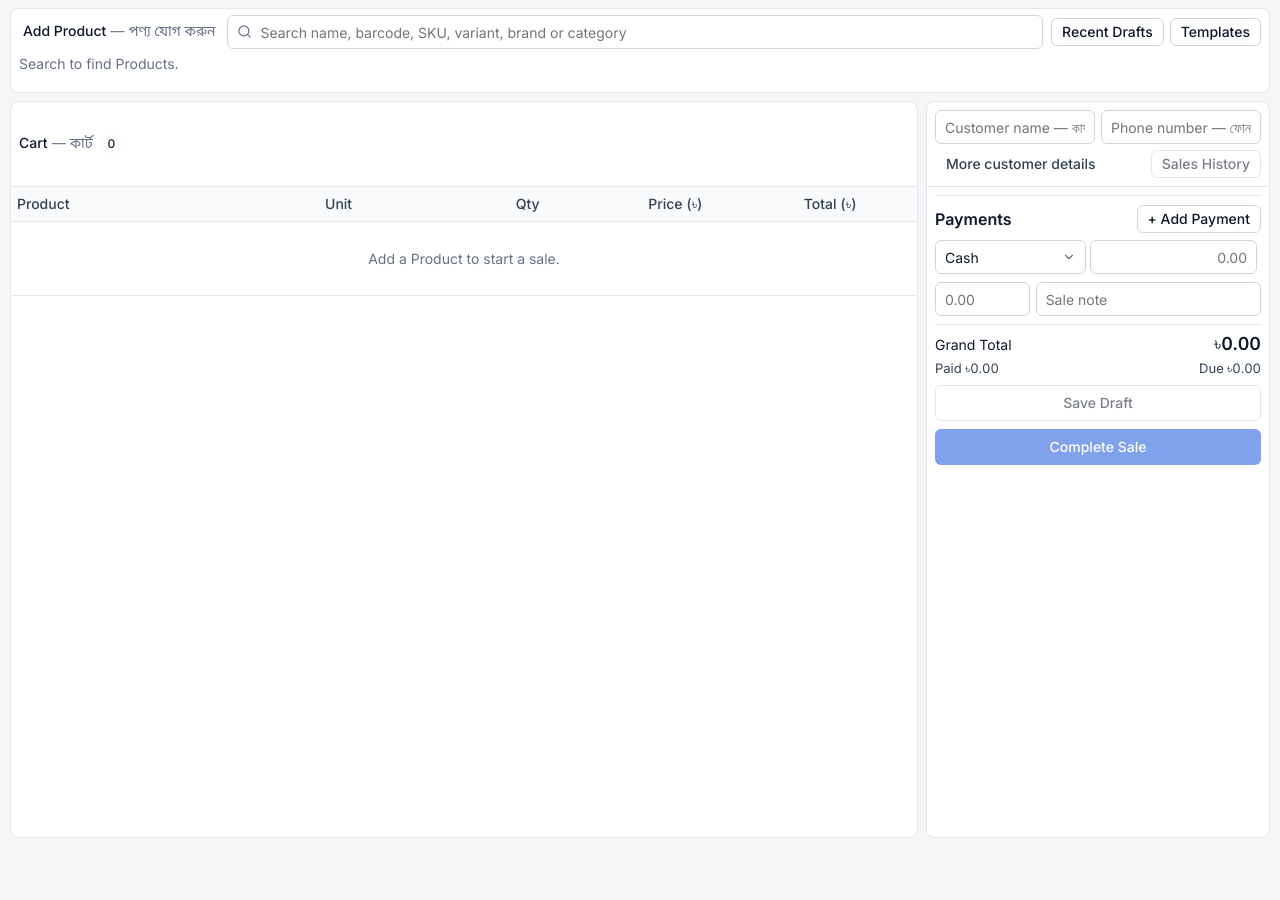
Test case: TemplatePicker › clears checkout identity and payments when loading a Template into POS
Type "Old customer" into the field labelled "Customer name" at (1015, 127), box [935,110,1095,144]
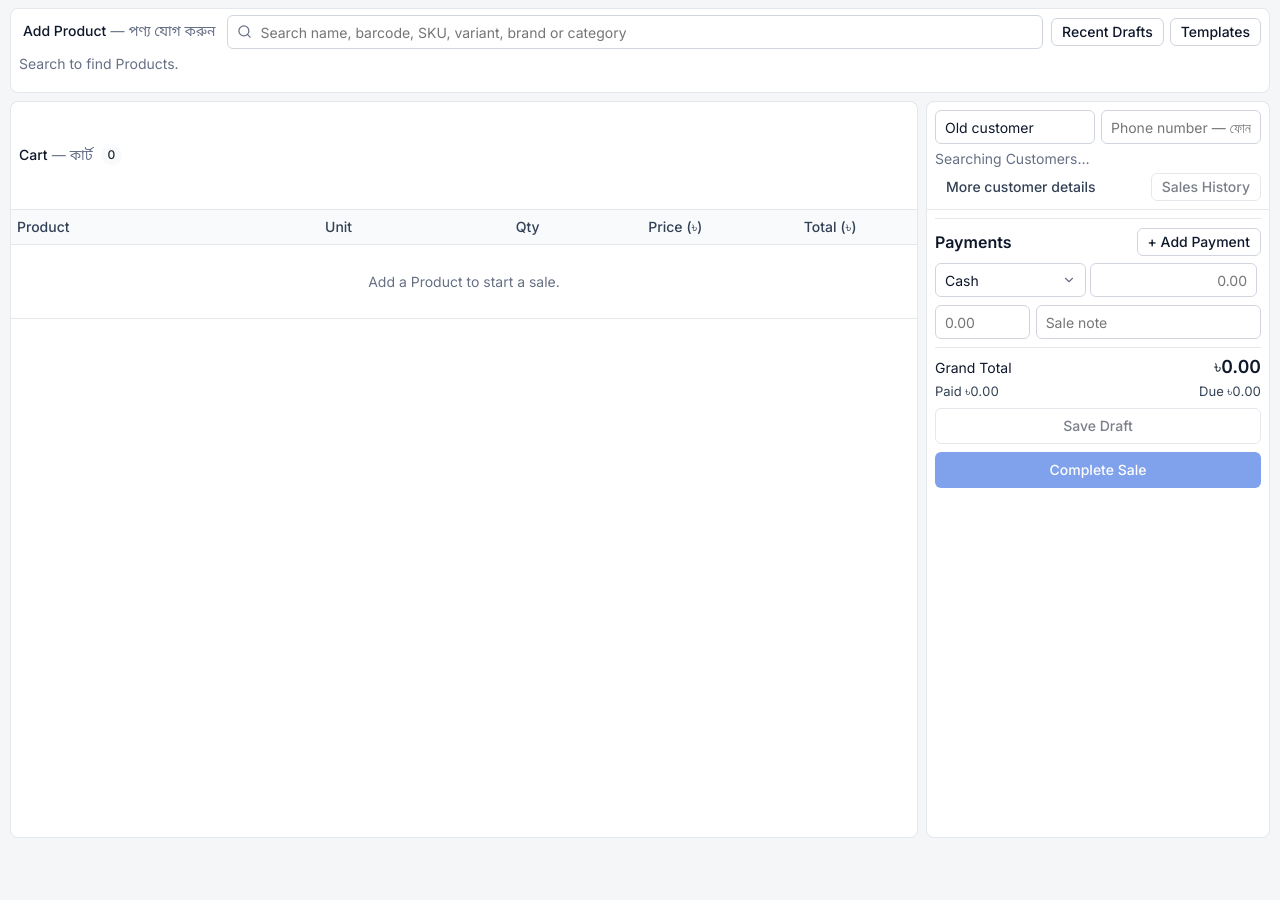
Type "12.00" into the field named "Payment amount 1" at (1173, 280), box [1090,263,1257,297]
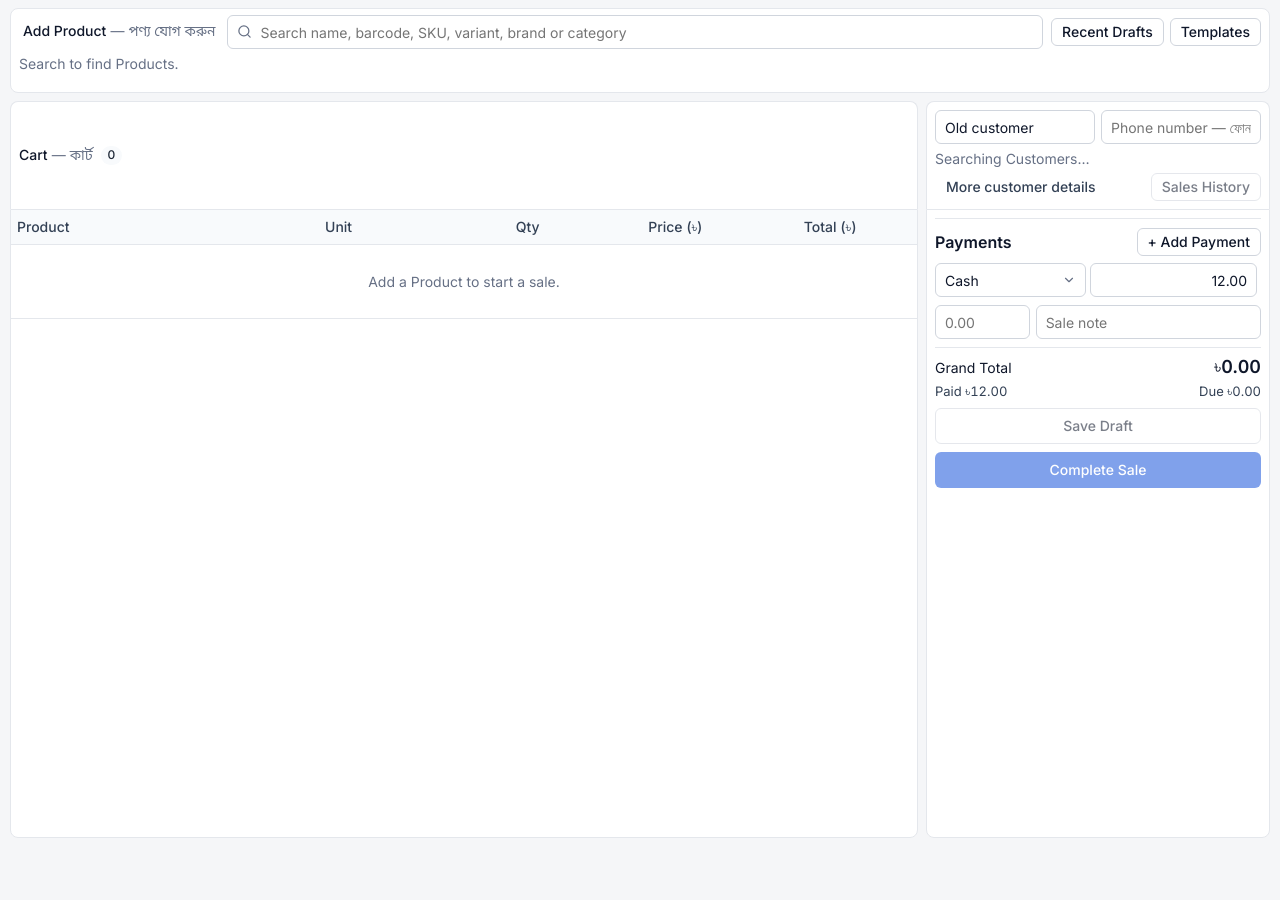
Click the button "Templates" at (1215, 32), box [1170,18,1261,46]
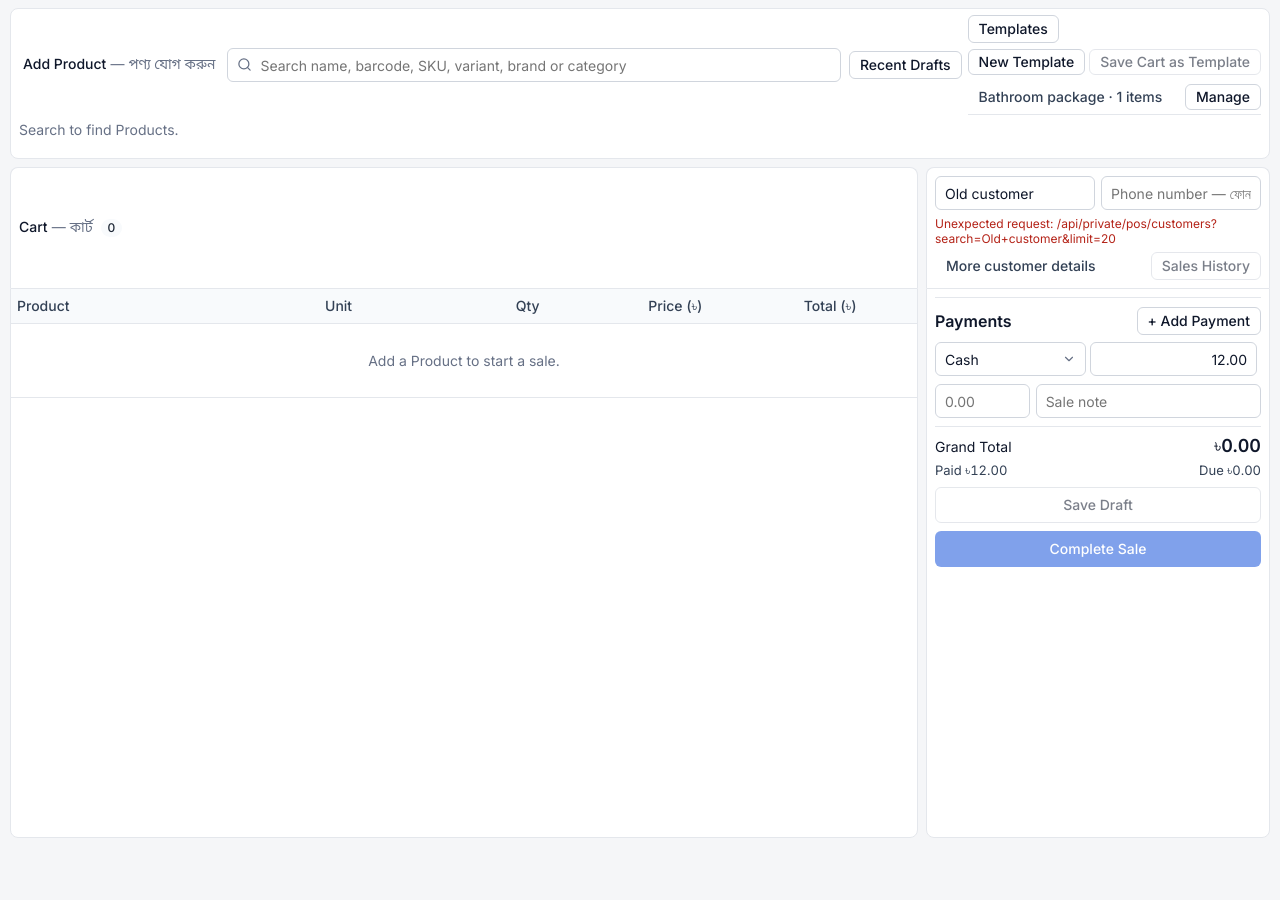
Click the button "Bathroom package · 1 items" at (1074, 97), box [968,83,1181,111]
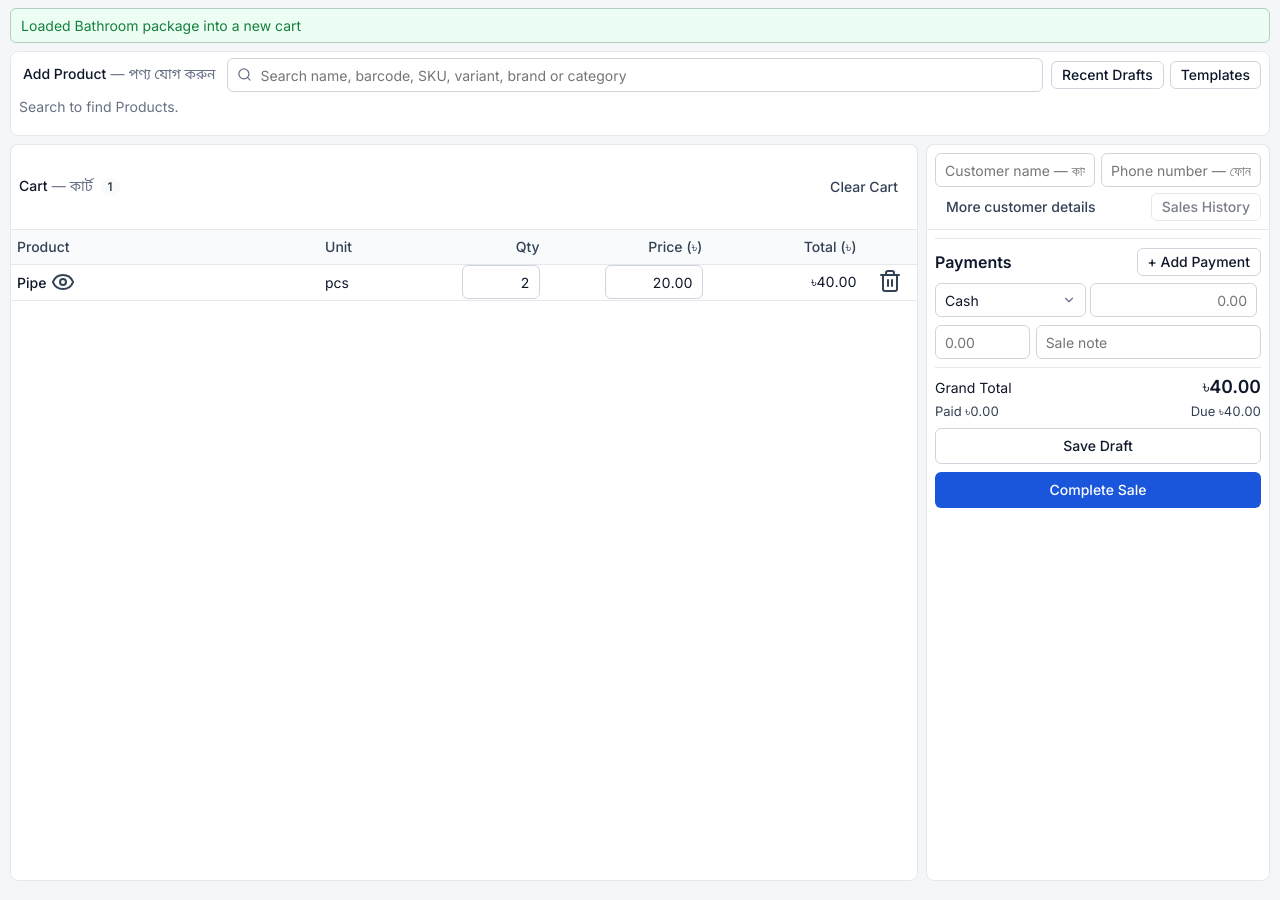
Result: the text "Loaded Bathroom package into a new cart" is shown at [10,8,1270,43]
Result: the field labelled "Customer name" is empty at [935,153,1095,187]
Result: the field named "Payment amount 1" is empty at [1090,283,1257,317]
